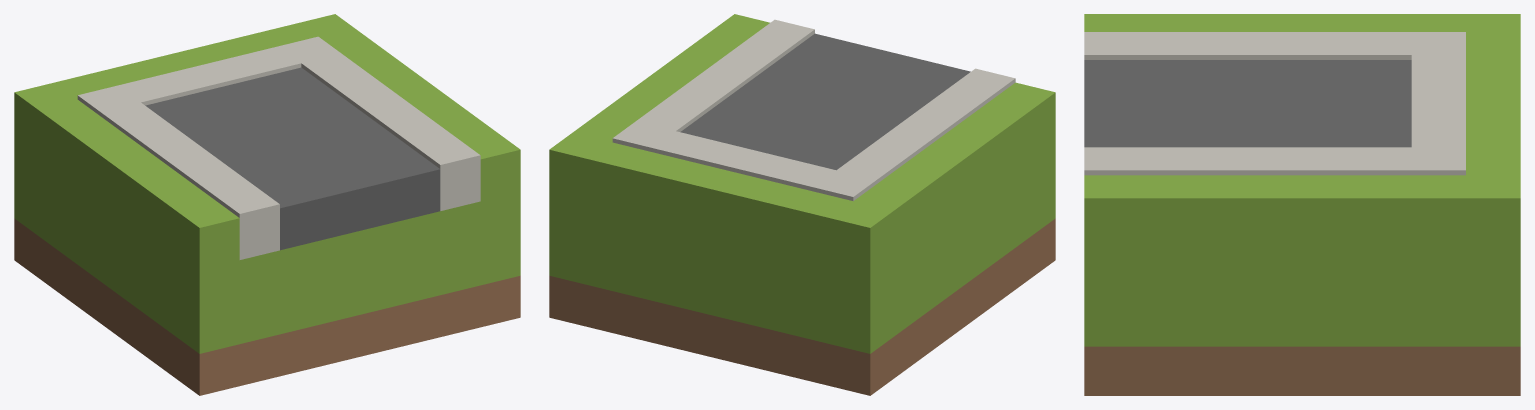
Rendered from road-end-high.obj.
3 renders of one model, left to right at view 1: azimuth 30°, elevation 25°; view 2: azimuth 150°, elevation 25°; view 3: azimuth 270°, elevation 25°, orthographic. The views are drawn at different scales.
Visible parts, largest first — view 1: road-end-high_Cube.554; view 2: road-end-high_Cube.554; view 3: road-end-high_Cube.554.
Part boxes in pixels (left/top/right/bottom): road-end-high_Cube.554: left=14, top=14, right=520, bottom=395; road-end-high_Cube.554: left=549, top=14, right=1055, bottom=395; road-end-high_Cube.554: left=1084, top=14, right=1520, bottom=395.
Bounding box in the file's own units: 8 × 4.1 × 8.
1 material, 1 textured.
